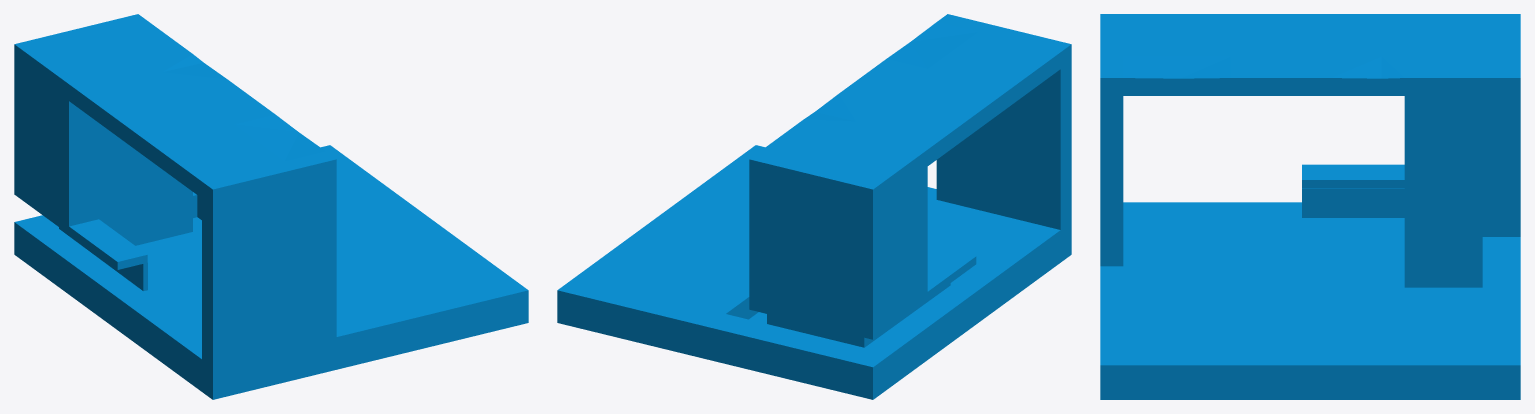
The model's file is stage003_mainMap.fbx.
The picture shows the model from 3 angles, left to right: view 1: azimuth 30°, elevation 25°; view 2: azimuth 150°, elevation 25°; view 3: azimuth 270°, elevation 25°; orthographic projection. The views are drawn at different scales.
Visible parts, largest first — view 1: mainMap; view 2: mainMap; view 3: mainMap.
Part boxes in pixels (left/top/right/bottom): mainMap: left=14, top=14, right=528, bottom=399; mainMap: left=557, top=14, right=1071, bottom=399; mainMap: left=1100, top=14, right=1520, bottom=399.
Bounding box in the file's own units: 46.13 × 29.38 × 50.23.
